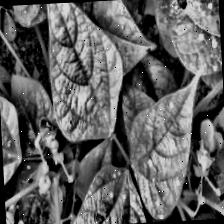Bean Rust: (128, 74, 210, 219), (58, 0, 157, 80), (46, 162, 150, 224), (170, 0, 221, 73), (0, 95, 23, 185), (8, 3, 64, 29)
